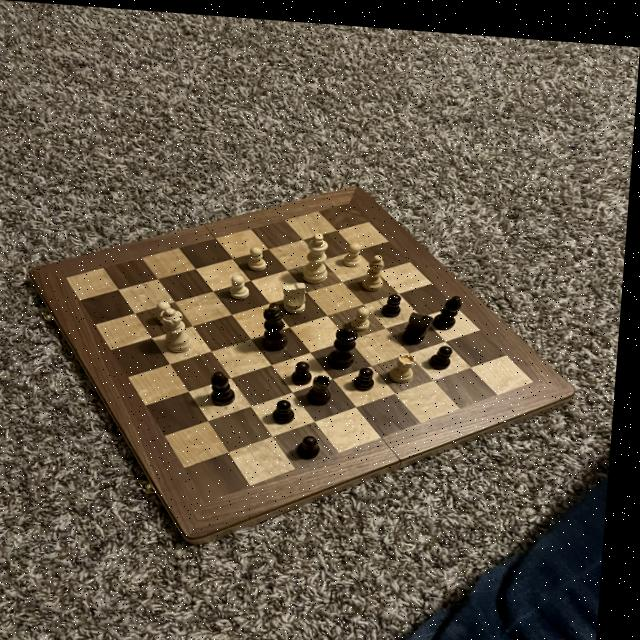bishop: (435, 286, 470, 327), (213, 364, 245, 406)
black-bishop: (260, 298, 297, 351)
black-king: (402, 300, 440, 342)
black-knight: (297, 427, 333, 459), (272, 392, 305, 423), (429, 335, 460, 367), (382, 284, 409, 315), (356, 358, 383, 388), (291, 356, 318, 383)
black-pawn: (330, 313, 367, 369)
black-queen: (307, 366, 342, 404)
black-rook: (360, 245, 392, 289)
white-bishop: (300, 223, 337, 281)
white-king: (283, 275, 315, 311)
white-knight: (227, 267, 257, 299), (156, 291, 184, 324), (342, 233, 368, 266), (246, 239, 274, 269), (355, 299, 376, 326)
white-pawn: (161, 305, 201, 354)
white-queen: (389, 344, 425, 381)
